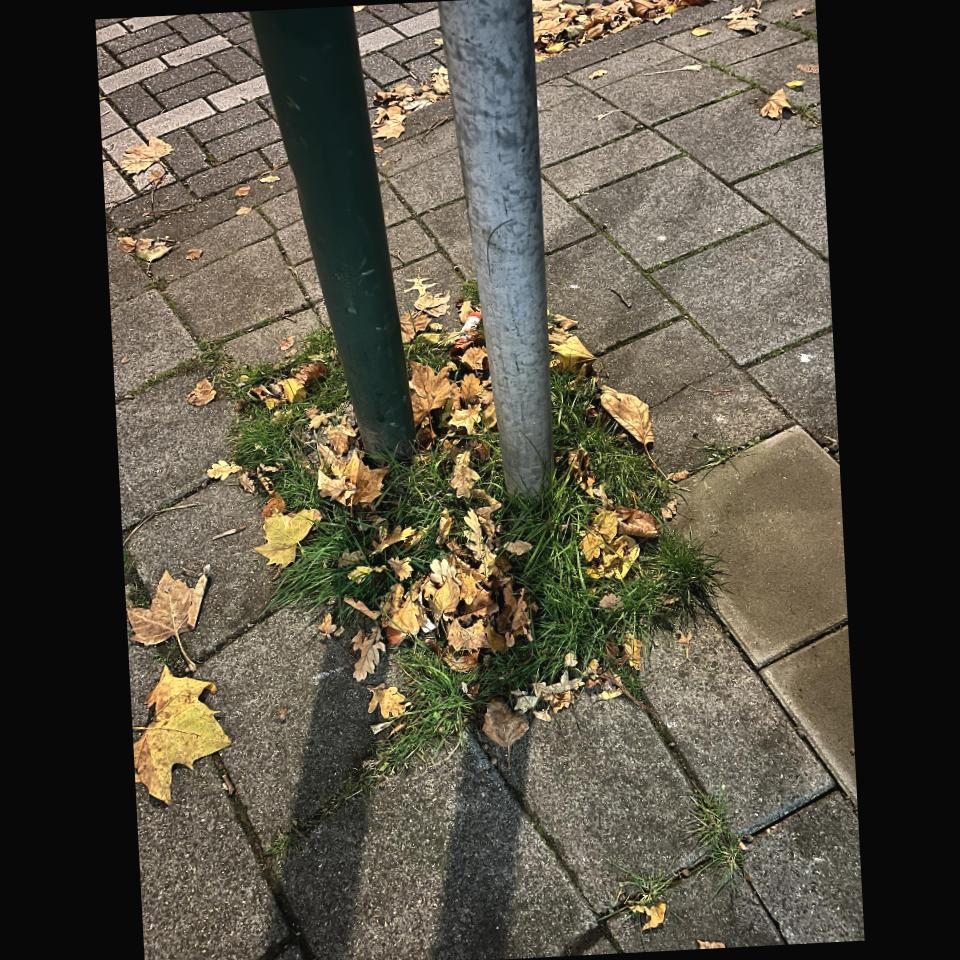weed: (479, 511, 717, 699), (557, 382, 667, 509), (385, 644, 486, 767), (234, 402, 330, 512), (198, 328, 336, 396), (379, 453, 476, 526), (279, 516, 356, 607), (281, 513, 352, 603), (622, 454, 661, 510), (314, 361, 345, 412), (407, 335, 449, 367), (477, 470, 513, 501), (462, 279, 480, 304)
